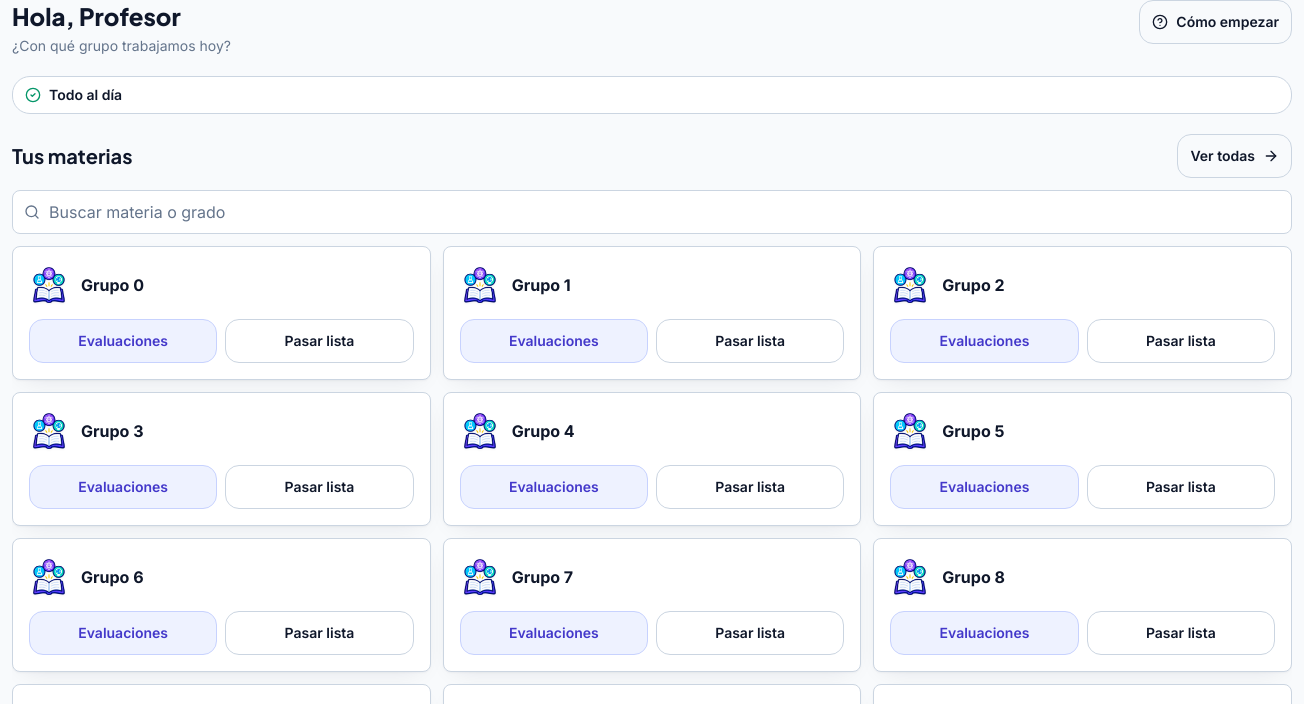
it: DashboardPage docente › filters thirty subjects and clears no-results without server searches
Type "inexistente" into the search field labelled "Buscar materia".
click(652, 212); type("inexistente")  # box [12,190,1292,234]
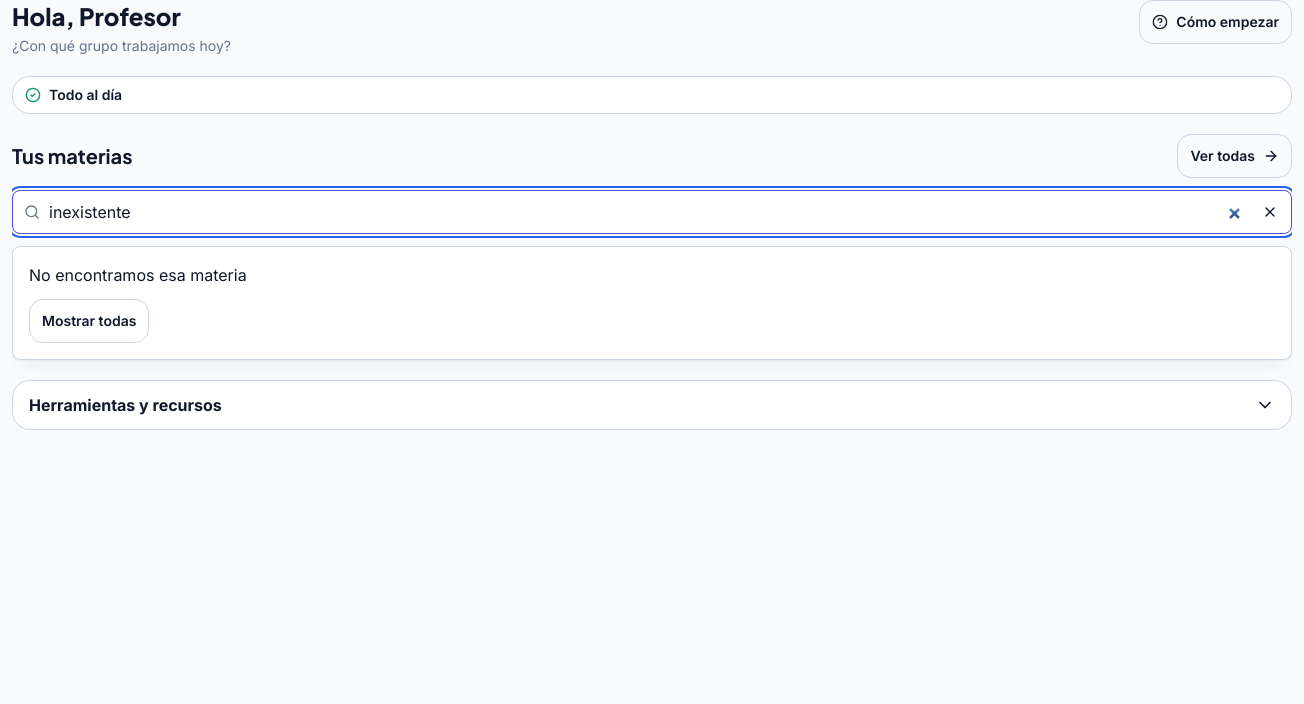
Now the text "No encontramos esa materia" is shown, box [29,265,247,285]
Click the button named "Limpiar búsqueda".
click(1270, 212)  # box [1248,190,1292,234]
(page scrolled)
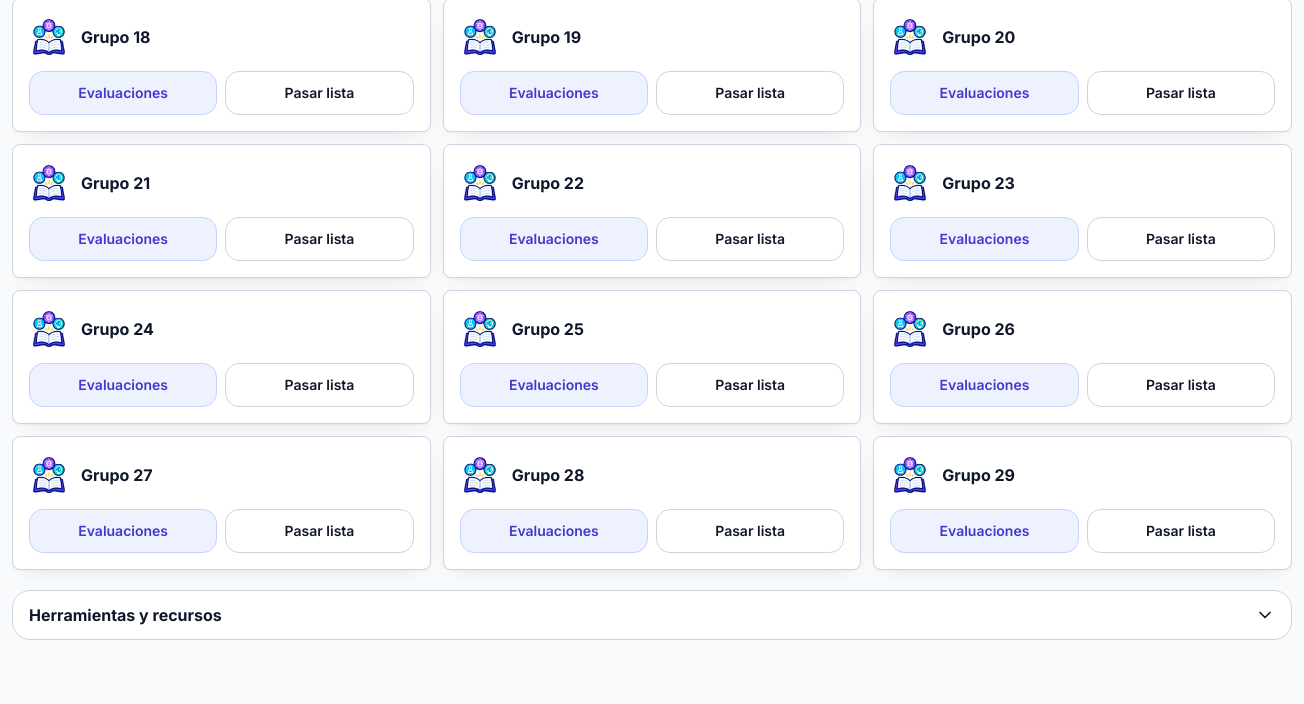
Now the link "Grupo 29" is shown, box [942,465,1015,485]
